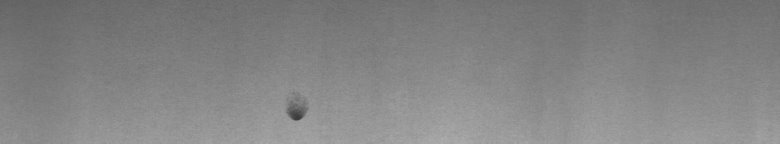fi: (281, 100, 312, 128)
